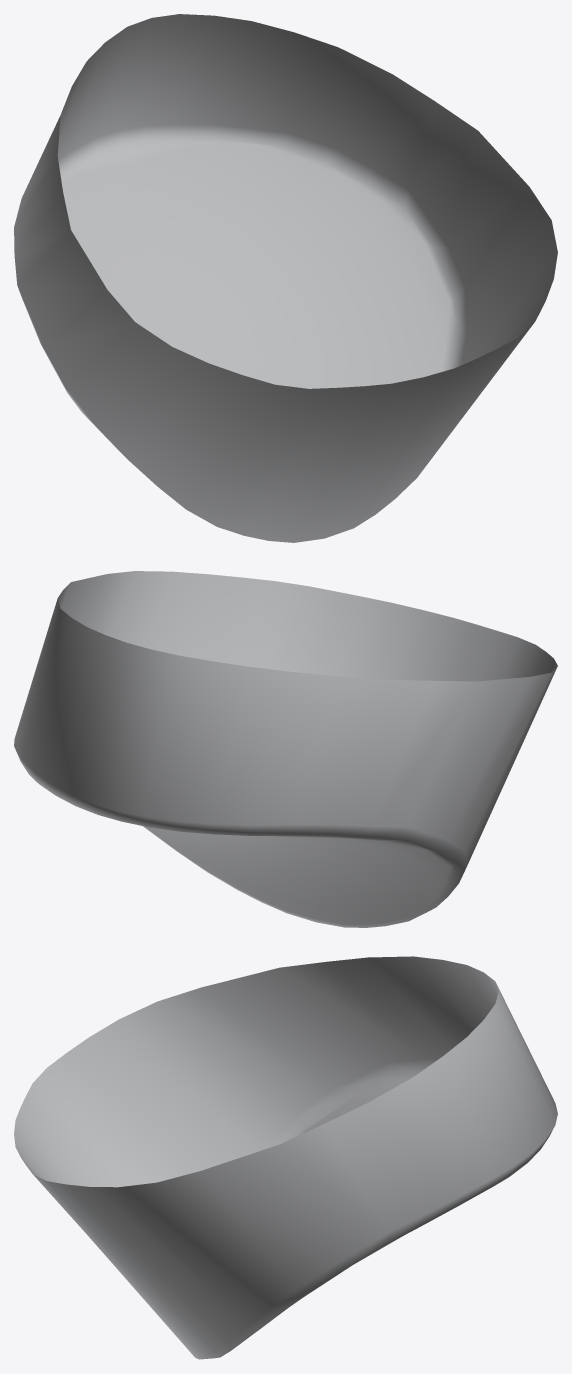
The model's file is trigger.obj.
3 renders of one model, top to bottom at view 1: azimuth 30°, elevation 25°; view 2: azimuth 150°, elevation 25°; view 3: azimuth 270°, elevation 25°, orthographic. The views are drawn at different scales.
Visible parts, largest first — view 1: trigger; view 2: trigger; view 3: trigger.
Boxes of the visible parts, x1,y1,x2,y2 form: trigger: [14, 14, 557, 542]; trigger: [14, 571, 557, 927]; trigger: [14, 956, 557, 1359].
Size of the model in its own units: 0.0271 by 0.0242 by 0.034.
Materials: 1 (1 with a texture image).
